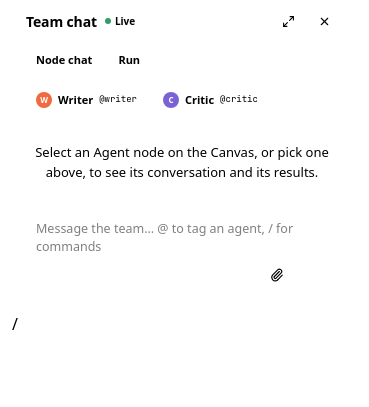
Test case: FR-CHAT-004 the Chat column › a chip opens the conversation for that node
What coordinates should you click on to do the following:
click the button "W Writer @writer"
I would click on:
 (86, 100)
Its box is 26,85 -> 147,115.
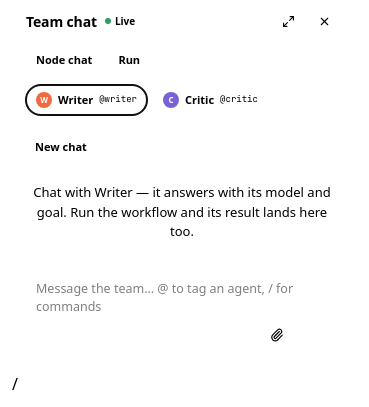
Expected: the element with test id "chat-conversation" is shown, 12,167 -> 352,258
